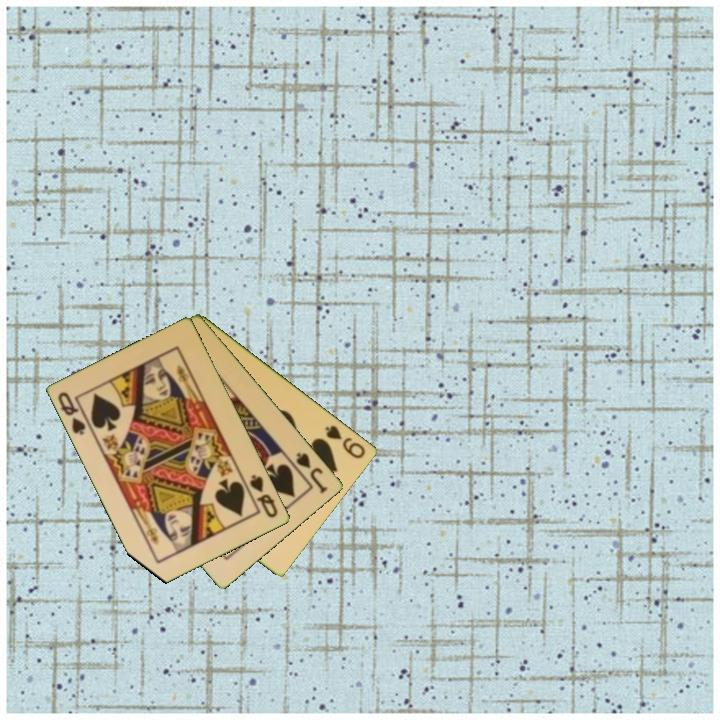9s: (322, 422, 369, 462)
Js: (293, 449, 331, 497)
Qs: (246, 471, 281, 521), (54, 388, 89, 438)
